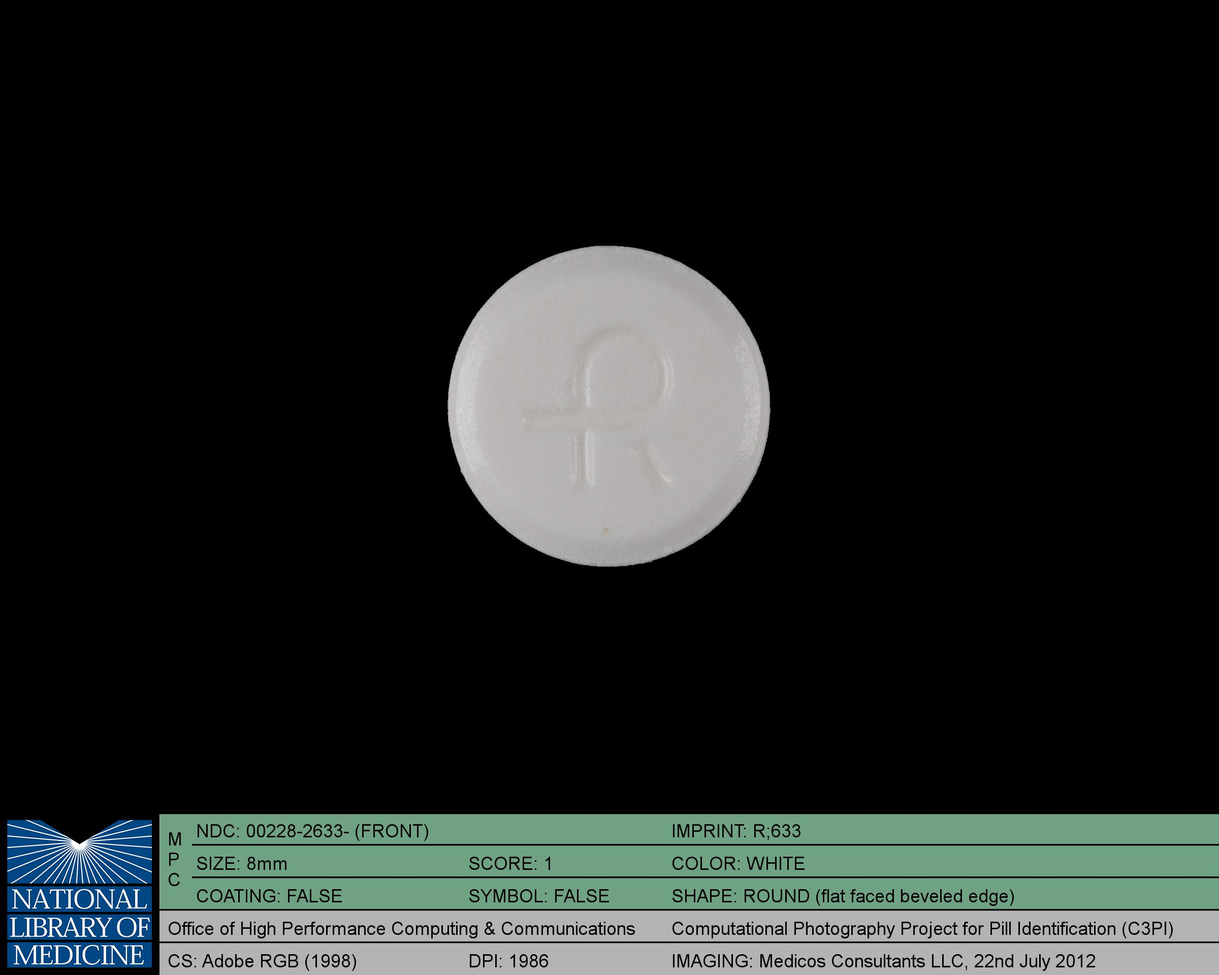Pill: (433, 230, 784, 579)
